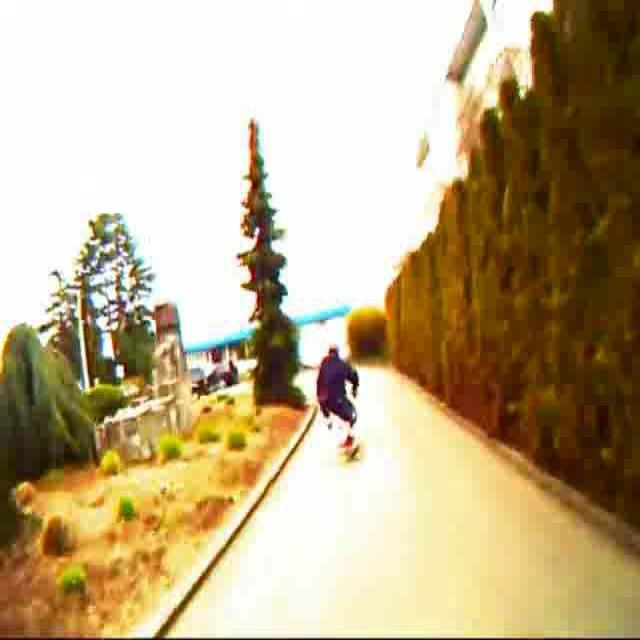other: (186, 390, 253, 516), (314, 413, 390, 477)
